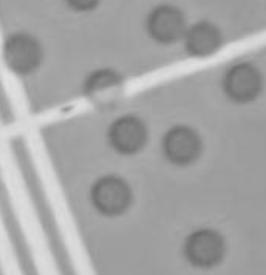cell: (77, 61, 128, 113), (179, 221, 230, 272), (86, 170, 138, 220), (103, 111, 153, 157), (220, 57, 266, 106), (158, 122, 206, 168), (142, 2, 190, 48), (181, 16, 226, 63), (1, 26, 45, 74)
